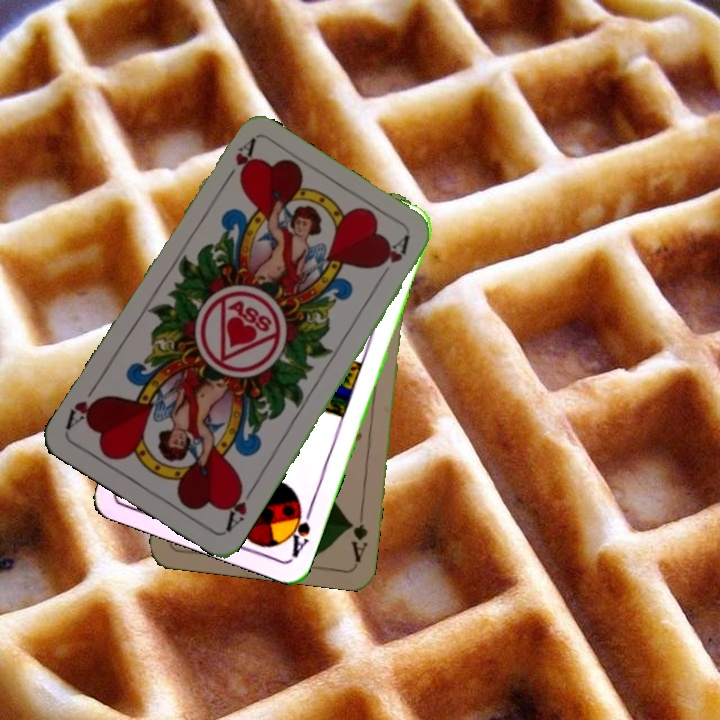GA: (345, 506, 371, 565)
HA: (219, 136, 258, 189), (221, 480, 259, 534)
SA: (282, 498, 315, 560)
